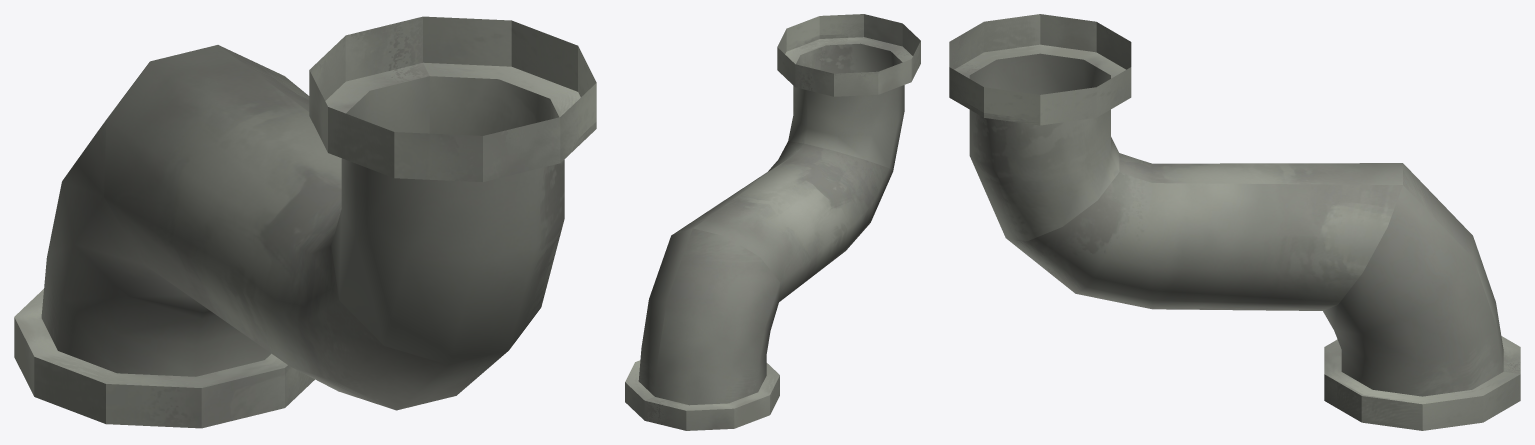
Rendered from pipe_1_02.fbx.
The picture shows the model from 3 angles, left to right: view 1: azimuth 30°, elevation 25°; view 2: azimuth 150°, elevation 25°; view 3: azimuth 270°, elevation 25°; orthographic projection. The views are drawn at different scales.
Parts seen in each view (by area): view 1: Object031; view 2: Object031; view 3: Object031.
Boxes of the visible parts, <box> form: Object031: <box>14,16,596,428</box>; Object031: <box>625,14,920,430</box>; Object031: <box>949,14,1520,430</box>.
Size of the model in its own units: 36.55 by 64.68 by 101.
